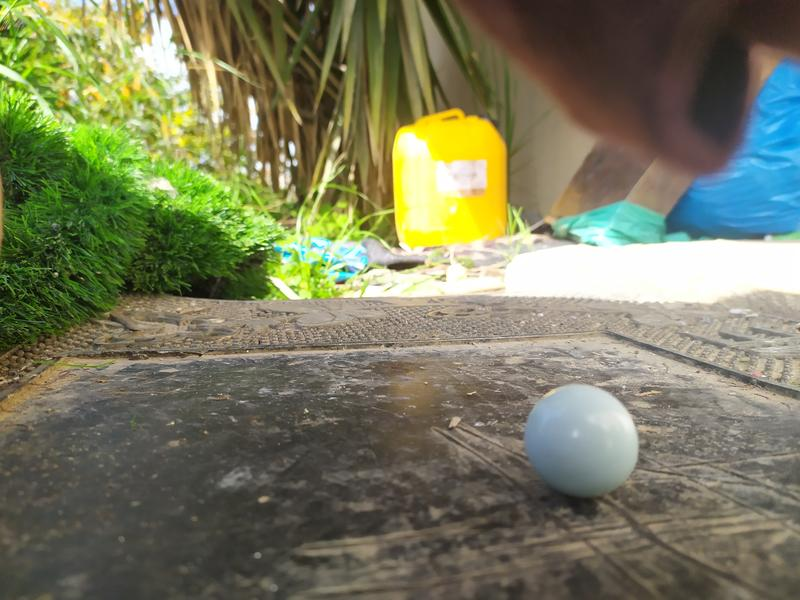Warning: (520, 380, 642, 502)
